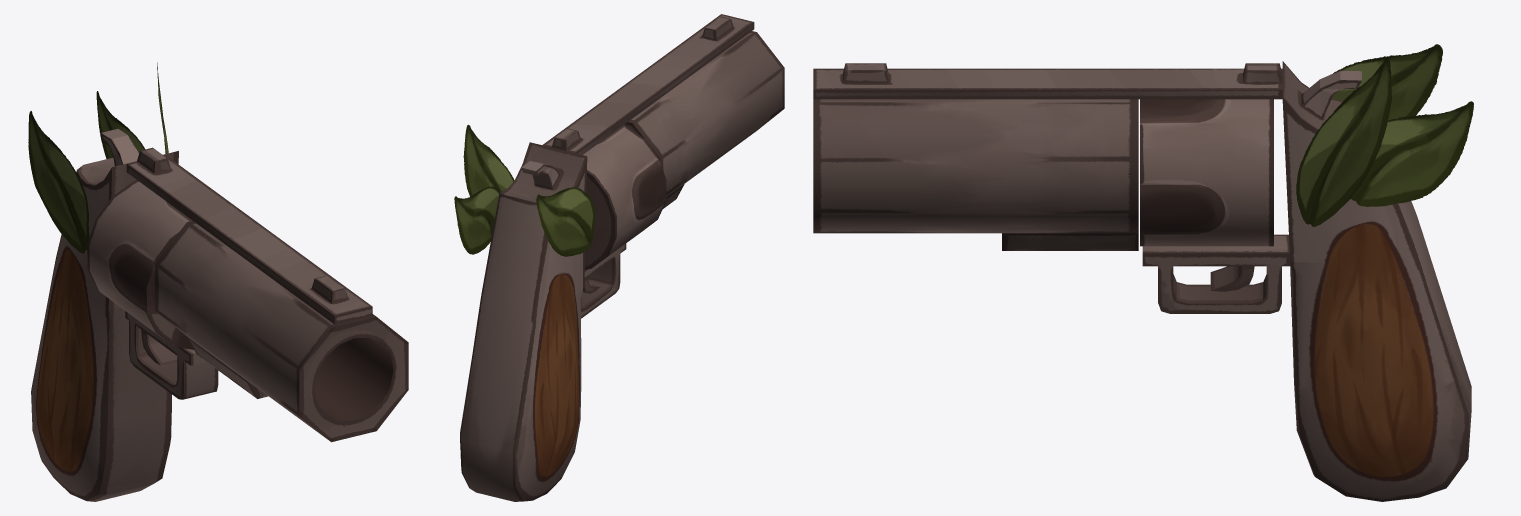
File: Pistol.fbx
3 views of the same model, side by side, from view 1: azimuth 30°, elevation 25°; view 2: azimuth 150°, elevation 25°; view 3: azimuth 270°, elevation 25° (orthographic). The views are drawn at different scales.
Parts seen in each view (by area): view 1: Gun Handle, Gun Nozzle, Gun Cartridge, Leaf002, Leaf; view 2: Gun Handle, Gun Nozzle, Gun Cartridge, Leaf002, Leaf, Leaf001; view 3: Gun Handle, Gun Nozzle, Gun Cartridge, Leaf001, Leaf, Leaf002.
Part boxes in pixels (box(x1,y1,x2,y2)): Gun Handle: box(31, 129, 372, 501); Gun Nozzle: box(155, 220, 408, 442); Gun Cartridge: box(87, 180, 193, 349); Leaf002: box(28, 111, 89, 253); Leaf: box(96, 91, 145, 158); Gun Handle: box(460, 14, 754, 501); Gun Nozzle: box(624, 31, 784, 208); Gun Cartridge: box(583, 125, 666, 269); Leaf002: box(536, 187, 595, 256); Leaf: box(454, 186, 500, 254); Leaf001: box(463, 124, 514, 196); Gun Handle: box(813, 61, 1471, 501); Gun Nozzle: box(813, 99, 1138, 250); Gun Cartridge: box(1140, 99, 1273, 246); Leaf001: box(1296, 57, 1391, 226); Leaf: box(1350, 101, 1473, 206); Leaf002: box(1332, 44, 1442, 120).
Bounding box in the file's own units: 15.01 × 47.03 × 58.
Materials: 4 (4 with a texture image).
